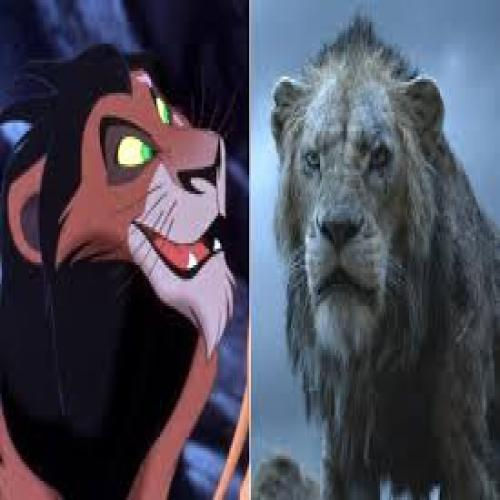lion-endangered: (276, 19, 500, 499), (2, 41, 229, 500)
